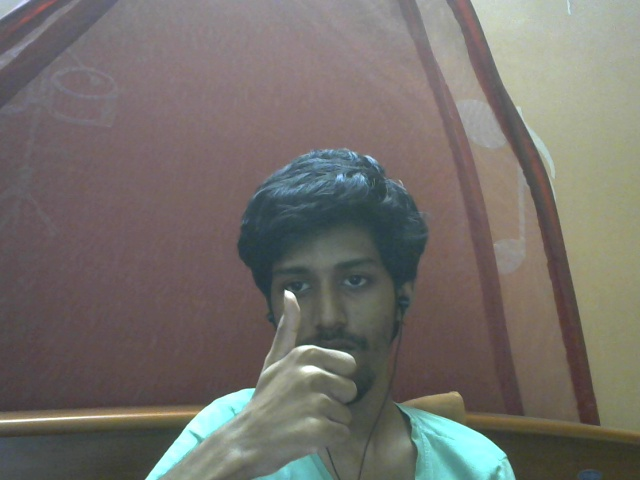ThumbsUp: (256, 290, 356, 476)
